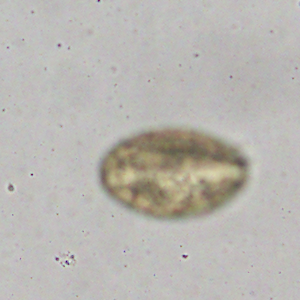Fasciola_hepatica_egg: (98, 124, 250, 222)
